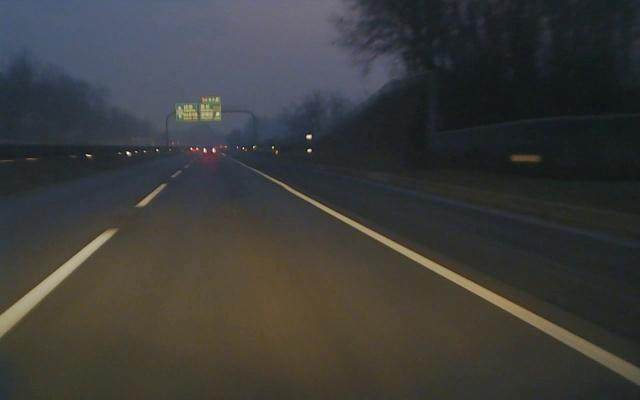lane: (232, 158, 640, 387), (0, 166, 187, 341)
